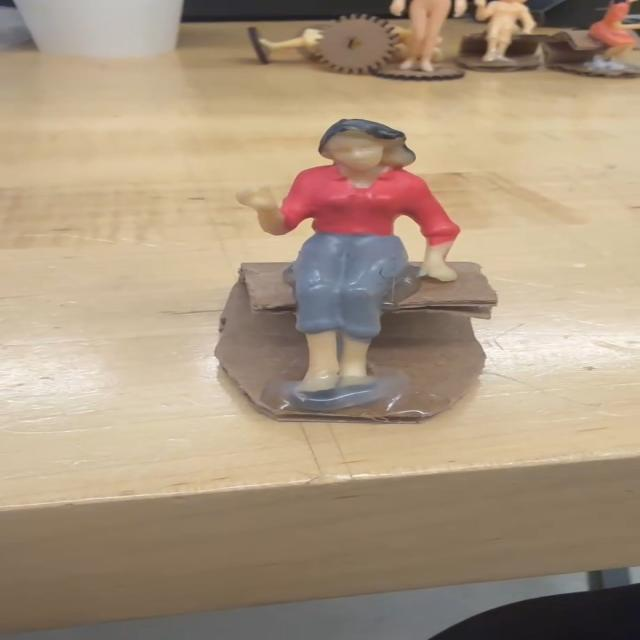Authorized: (199, 104, 472, 407)
